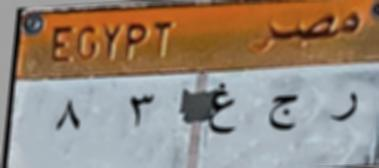3: (122, 88, 164, 134)
7: (54, 92, 88, 139)
ghayn: (204, 74, 244, 148)
jeem: (260, 89, 307, 140)
raa: (324, 89, 362, 129)
